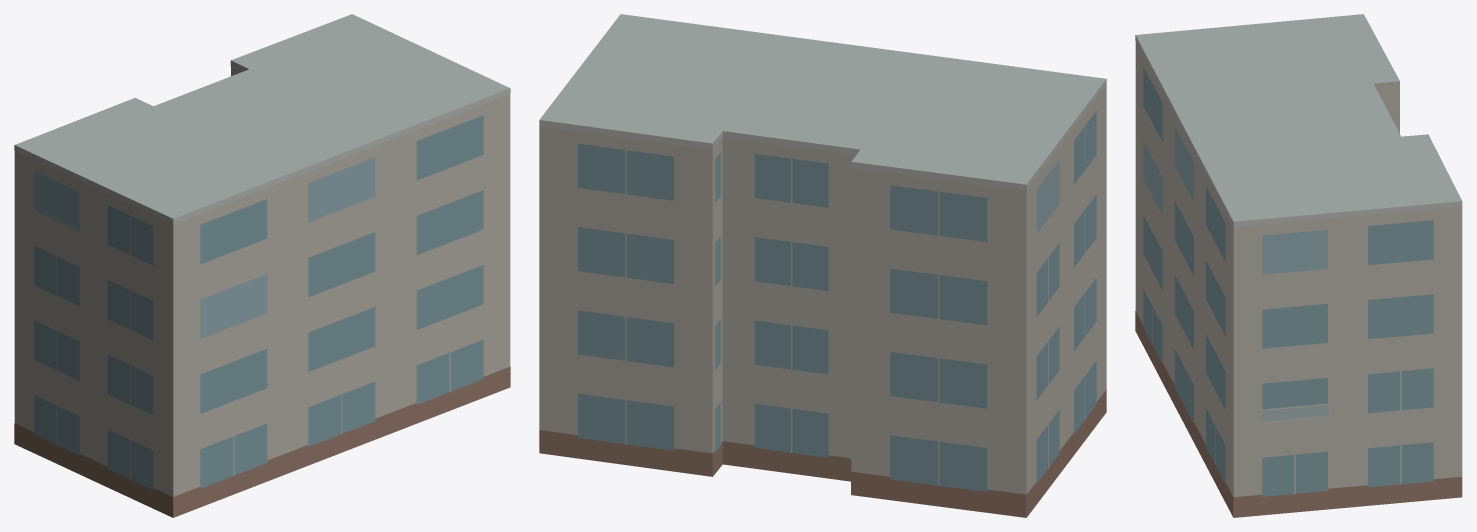
The model's file is survey-upis-33018141.glb.
3 views of the same model, side by side, from view 1: azimuth 30°, elevation 25°; view 2: azimuth 150°, elevation 25°; view 3: azimuth 270°, elevation 25° (orthographic). The views are drawn at different scales.
Visible parts, largest first — view 1: survey-upis-33018141.tmp; view 2: survey-upis-33018141.tmp; view 3: survey-upis-33018141.tmp.
Part boxes in pixels (x1=…): survey-upis-33018141.tmp: x1=14, y1=14, x2=510, y2=517; survey-upis-33018141.tmp: x1=539, y1=14, x2=1106, y2=517; survey-upis-33018141.tmp: x1=1135, y1=14, x2=1462, y2=517.
Bounding box in the file's own units: 19.72 × 13.1 × 13.12.
